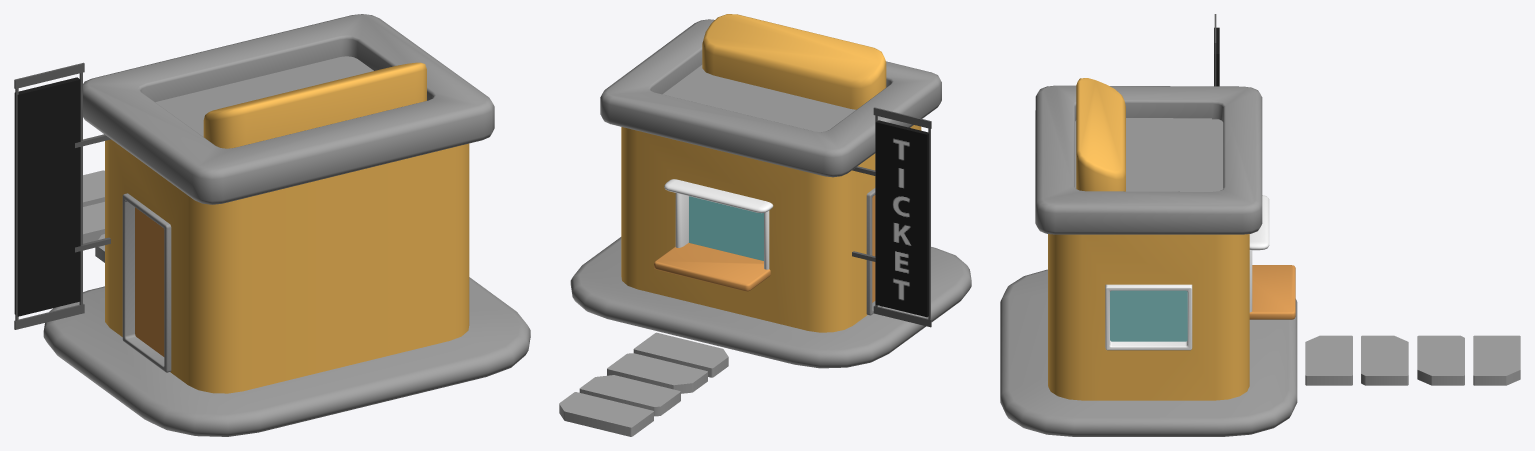
File: ticket_office.fbx
3 renders of one model, left to right at view 1: azimuth 30°, elevation 25°; view 2: azimuth 150°, elevation 25°; view 3: azimuth 270°, elevation 25°, orthographic. The views are drawn at different scales.
Visible parts, largest first — view 1: ticket_office, ticket_office_tabela, stone4, stone3; view 2: ticket_office, ticket_office_tabela, stone3, stone2, stone4, stone1; view 3: ticket_office, stone3, stone4, stone1, stone2.
Boxes of the visible parts, <box> form: ticket_office: <box>43,14,530,436</box>; ticket_office_tabela: <box>14,62,110,329</box>; stone4: <box>83,202,104,243</box>; stone3: <box>83,170,104,206</box>; ticket_office: <box>570,14,971,368</box>; ticket_office_tabela: <box>852,107,931,327</box>; stone3: <box>559,392,653,436</box>; stone2: <box>607,353,707,393</box>; stone4: <box>579,375,680,416</box>; stone1: <box>633,332,728,377</box>; ticket_office: <box>1000,78,1297,436</box>; stone3: <box>1473,335,1520,385</box>; stone4: <box>1417,335,1464,385</box>; stone1: <box>1305,335,1352,385</box>; stone2: <box>1361,335,1408,385</box>.
Bounding box in the file's own units: 511 × 344 × 639.
3 materials, 2 textured.
